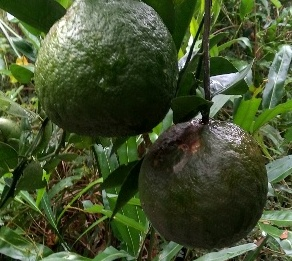Cam: (31, 1, 182, 137), (136, 118, 272, 252)
